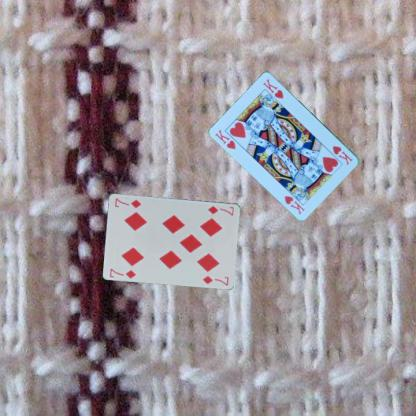7d: (206, 203, 235, 217), (108, 266, 138, 279)
Kh: (212, 127, 237, 150), (330, 143, 354, 166)
